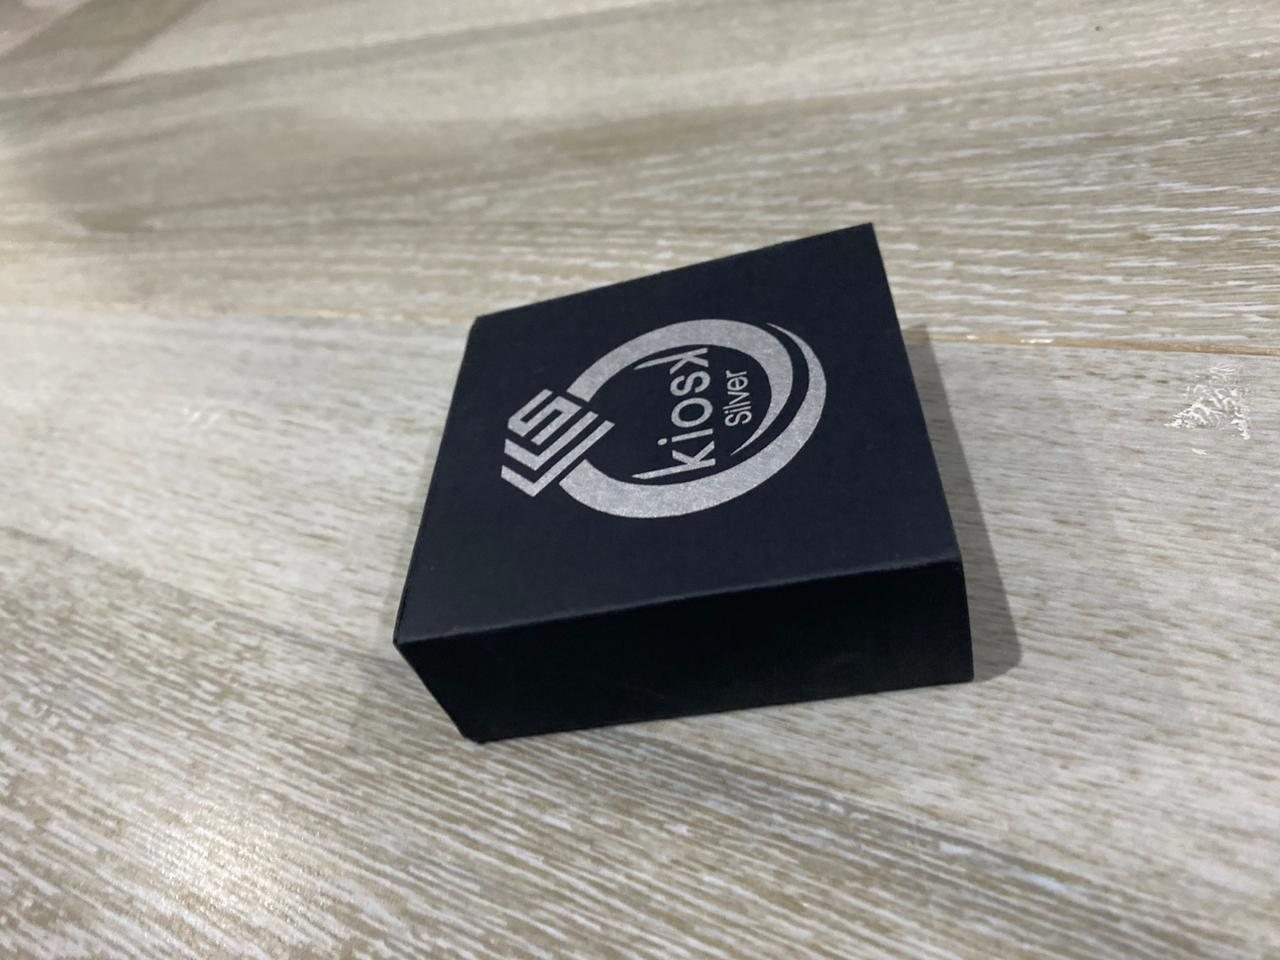Red Box: (390, 222, 981, 752)
